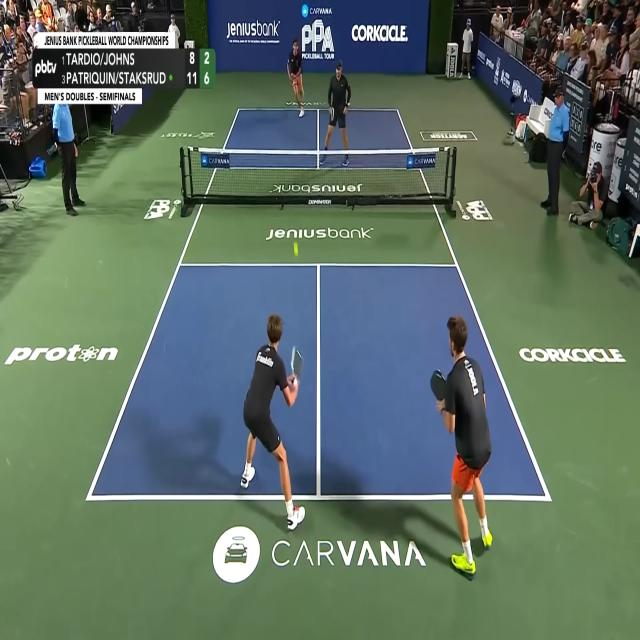ball: (293, 242, 299, 256)
